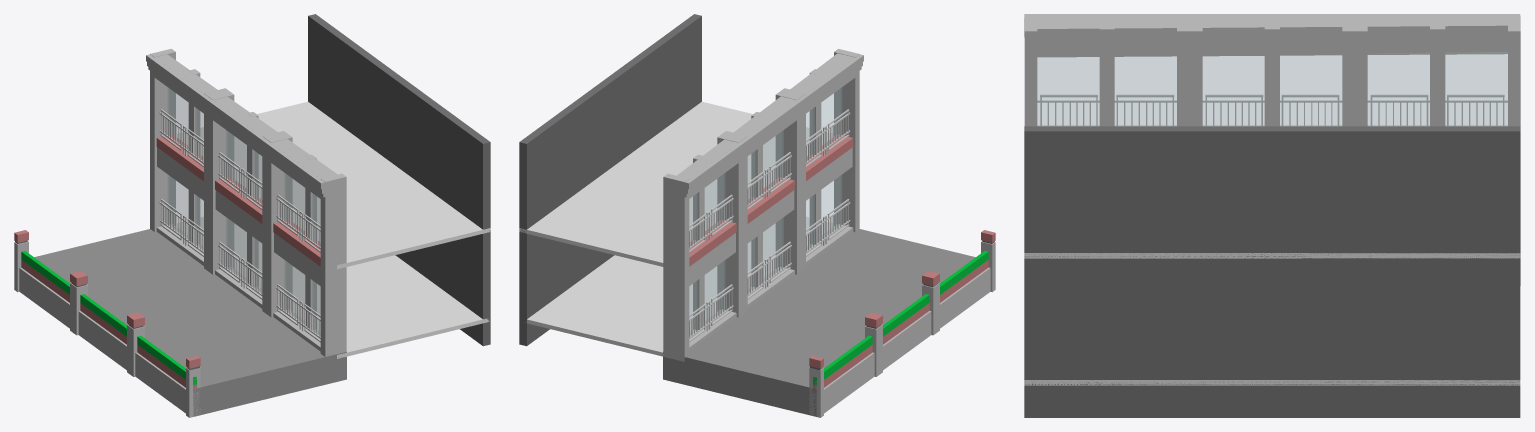
File: Edge_Ground_Recessed.fbx
3 renders of one model, left to right at view 1: azimuth 30°, elevation 25°; view 2: azimuth 150°, elevation 25°; view 3: azimuth 270°, elevation 25°, orthographic. The views are drawn at different scales.
Parts seen in each view (by area): view 1: Walls, Floor_Inside, Floor_Outside, Inside_Wall, Railings, GlassWindows, Wall_Accents, Hedge1; view 2: Walls, Floor_Inside, Floor_Outside, Inside_Wall, Railings, GlassWindows, Wall_Accents, Hedge1; view 3: Inside_Wall, Walls, GlassWindows, Floor_Inside, Railings.
Part boxes in pixels (bbox=[...]): Walls: bbox=[14, 48, 346, 417]; Floor_Inside: bbox=[177, 101, 490, 358]; Floor_Outside: bbox=[34, 229, 346, 416]; Inside_Wall: bbox=[308, 14, 490, 346]; Railings: bbox=[159, 109, 320, 342]; GlassWindows: bbox=[168, 88, 320, 334]; Wall_Accents: bbox=[14, 134, 320, 391]; Hedge1: bbox=[21, 251, 196, 385]; Walls: bbox=[663, 49, 995, 417]; Floor_Inside: bbox=[519, 101, 832, 356]; Floor_Outside: bbox=[663, 229, 975, 416]; Inside_Wall: bbox=[519, 14, 701, 346]; Railings: bbox=[689, 109, 850, 342]; GlassWindows: bbox=[689, 88, 841, 334]; Wall_Accents: bbox=[689, 134, 995, 391]; Hedge1: bbox=[813, 251, 988, 385]; Inside_Wall: bbox=[1024, 126, 1520, 417]; Walls: bbox=[1024, 14, 1520, 285]; GlassWindows: bbox=[1037, 52, 1507, 125]; Floor_Inside: bbox=[1024, 253, 1520, 385]; Railings: bbox=[1037, 94, 1507, 126].
Bounding box in the file's own units: 39.75 × 25.55 × 40.01.
